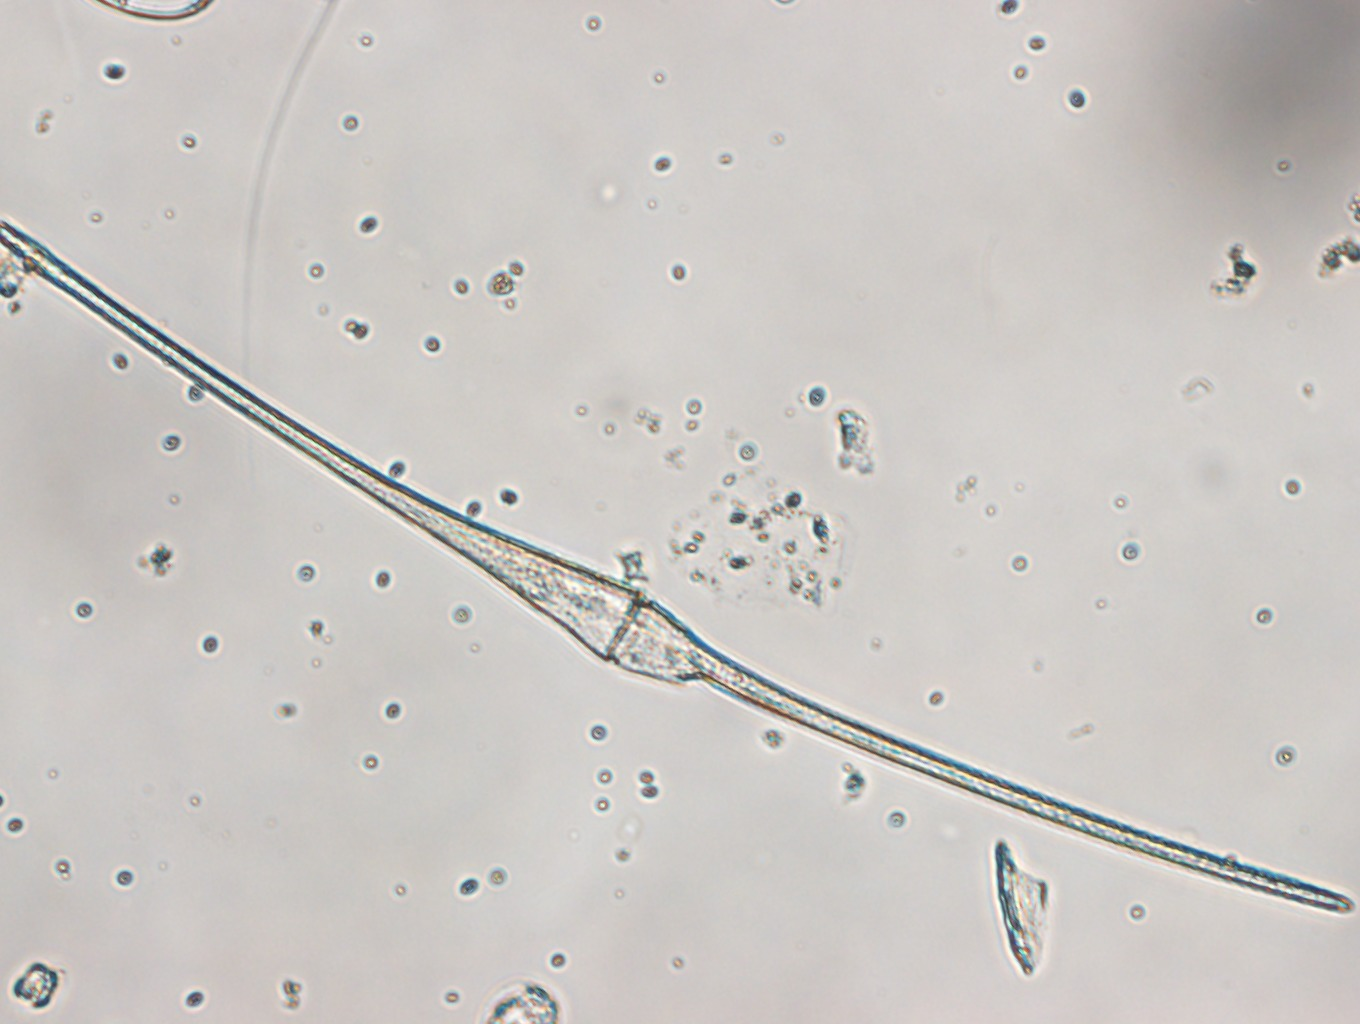ceratium fusus: (1, 219, 1356, 918)
